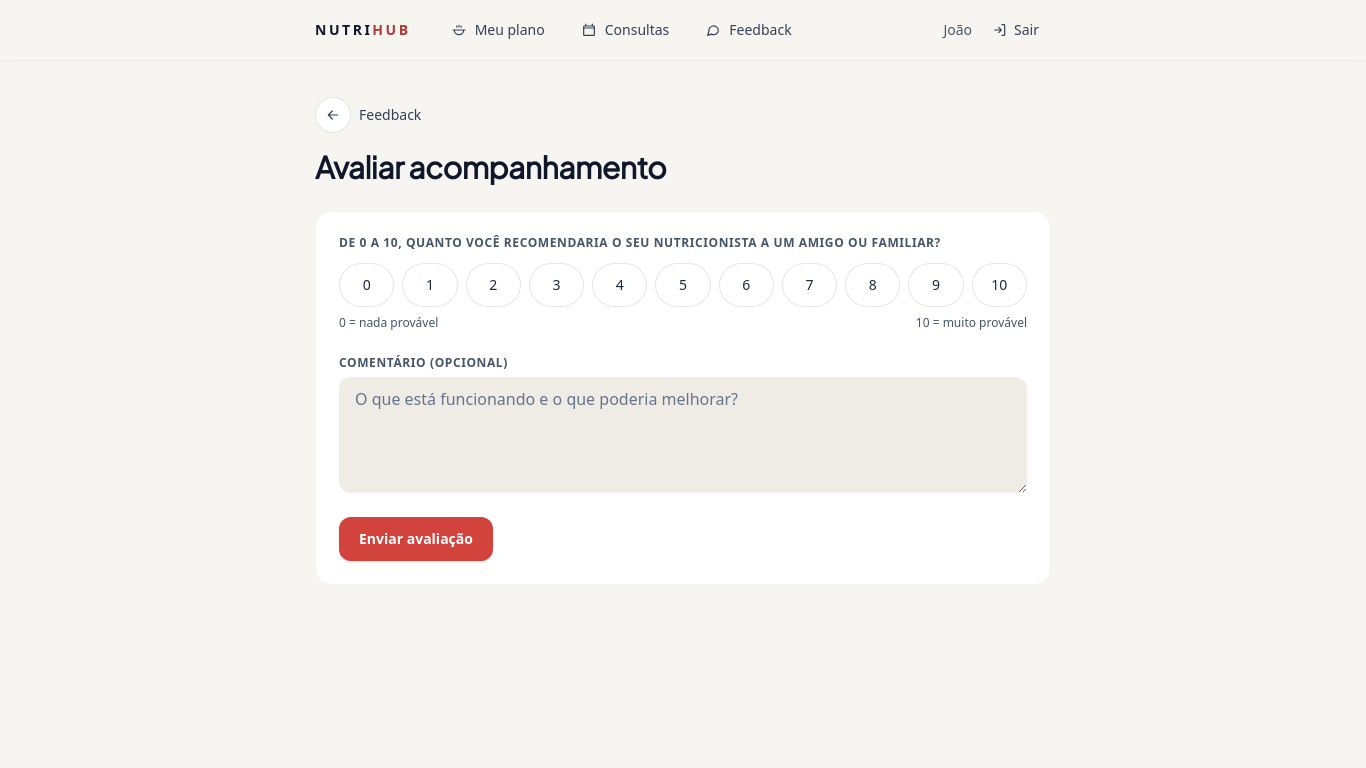
Test: Avaliar (UC-07) › mostra a mensagem do servidor quando a pesquisa já foi respondida
The image size is (1366, 768).
Click the radio button named "Nota 5": (683, 284) [655,262,711,306]
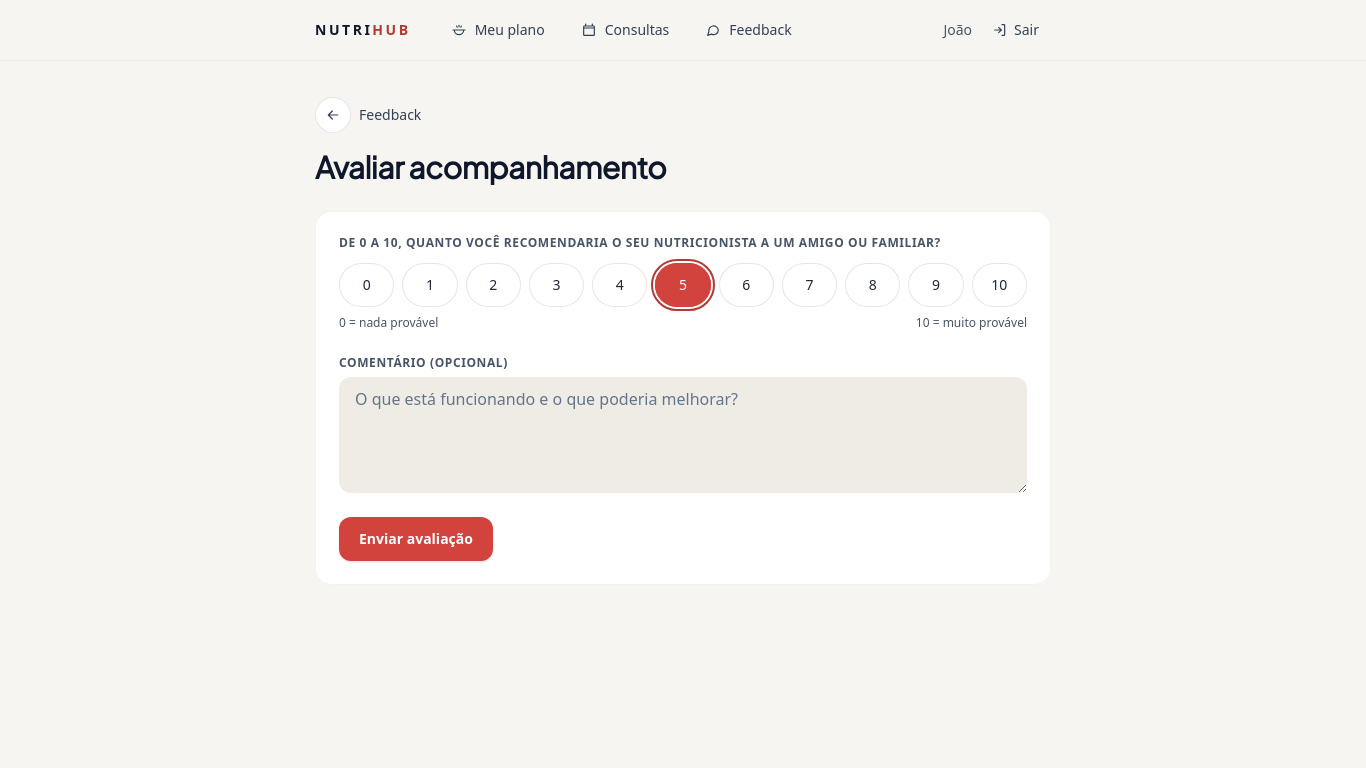
Click the button "Enviar avaliação": (416, 538) [339,516,493,560]
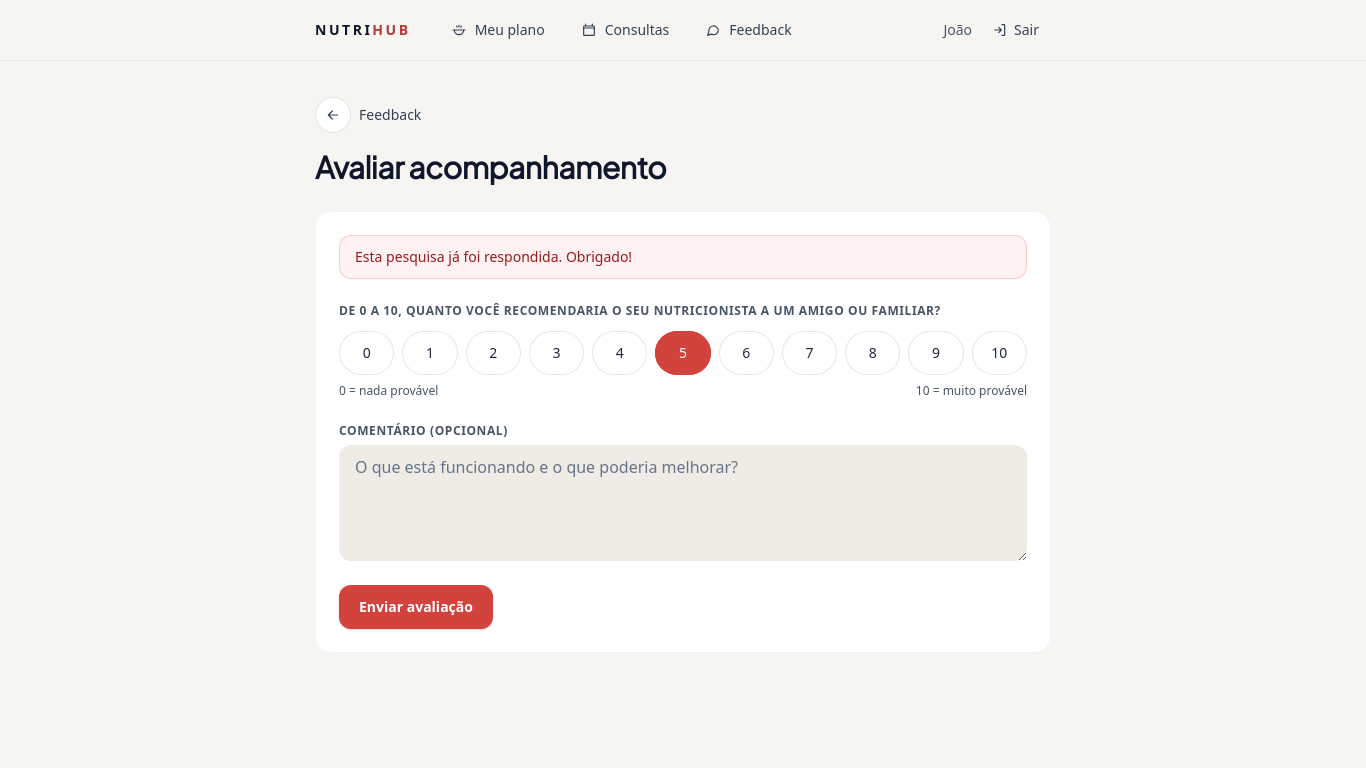
Expected: the message reads "Esta pesquisa já foi respondida. Obrigado!", [355,246,632,266]
